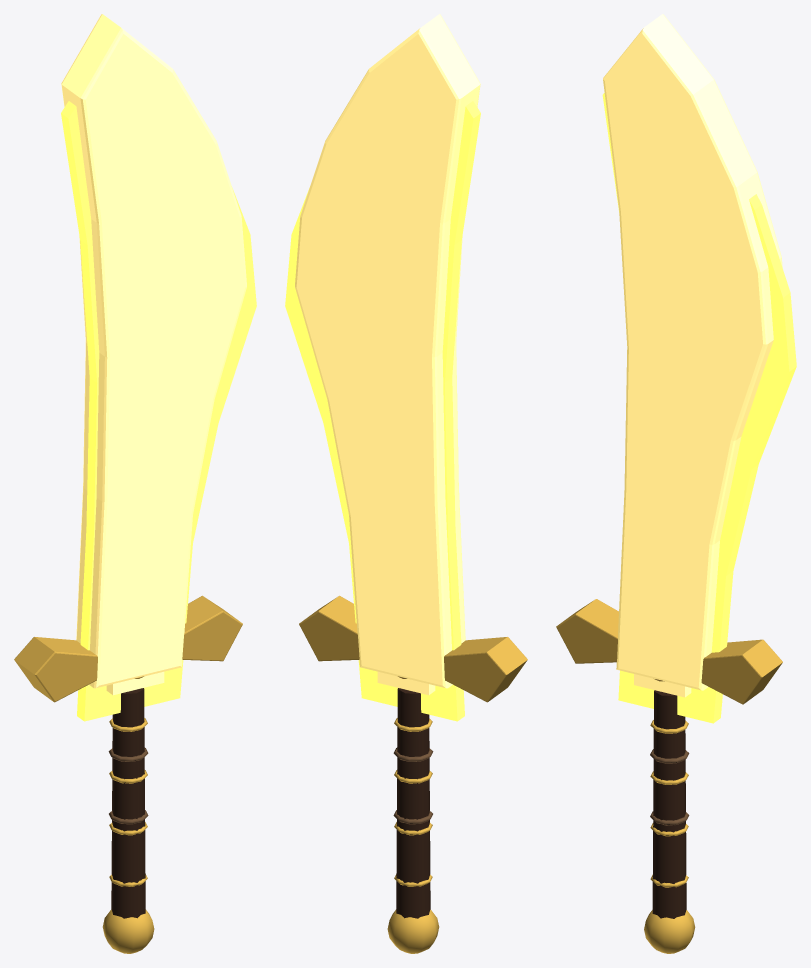
Rendered from greatsword_f5_b49194e5.glb.
3 renders of one model, left to right at view 1: azimuth 30°, elevation 25°; view 2: azimuth 150°, elevation 25°; view 3: azimuth 330°, elevation 25°, orthographic.
Parts seen in each view (by area): view 1: m3_ow80_, m0_gm110_, m4_ow80_, m2_ow80_; view 2: m3_ow80_, m0_gm110_, m4_ow80_, m2_ow80_; view 3: m3_ow80_, m0_gm110_, m4_ow80_, m2_ow80_.
Boxes of the visible parts, box(x1,y1,x2,y2) form: m3_ow80_: box(61, 14, 246, 695); m0_gm110_: box(61, 101, 256, 721); m4_ow80_: box(14, 595, 242, 953); m2_ow80_: box(111, 688, 145, 918); m3_ow80_: box(295, 14, 480, 695); m0_gm110_: box(285, 101, 480, 721); m4_ow80_: box(299, 595, 527, 953); m2_ow80_: box(396, 688, 430, 918); m3_ow80_: box(603, 14, 782, 697); m0_gm110_: box(602, 93, 796, 723); m4_ow80_: box(556, 599, 782, 953); m2_ow80_: box(652, 690, 686, 918).
Size of the model in its own units: 0.8454 by 3.3 by 0.1583.
